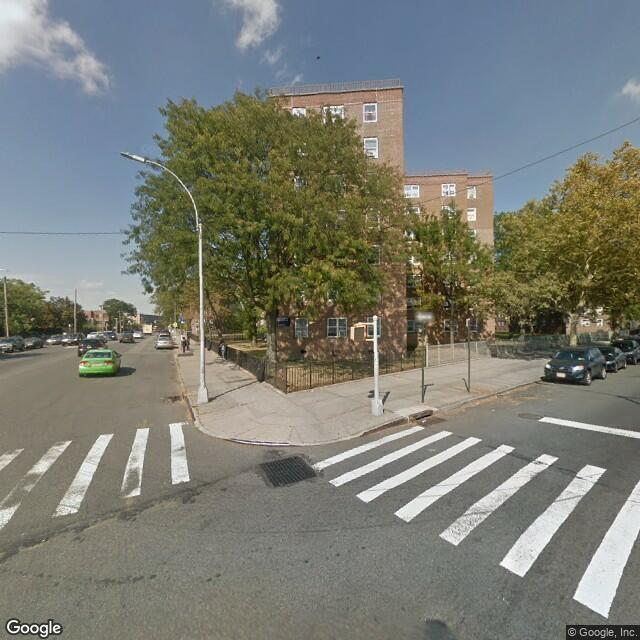litter: (421, 417, 429, 420), (491, 408, 499, 411)
